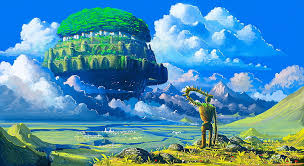field: (3, 121, 304, 165)
sky: (153, 1, 296, 86)
